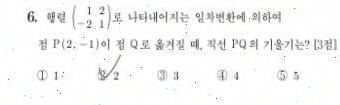choice: (95, 65, 109, 82)
not-choice: (34, 68, 49, 82), (275, 68, 289, 82), (155, 68, 168, 81), (215, 68, 228, 81)
